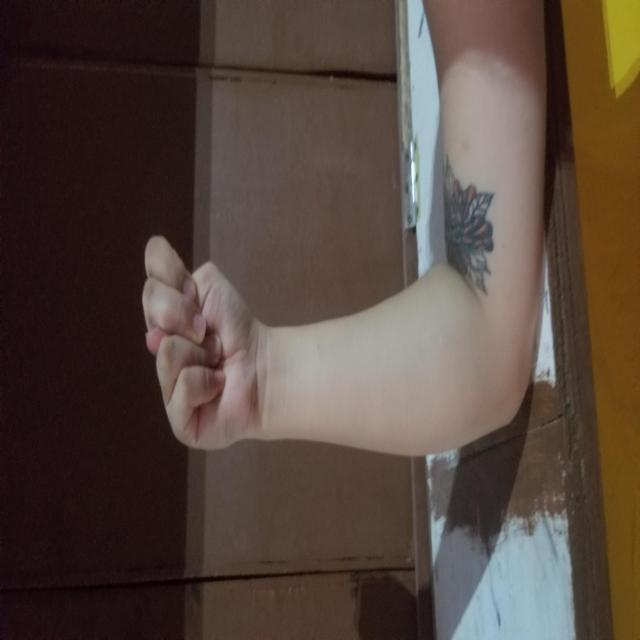N: (186, 142, 409, 257)
